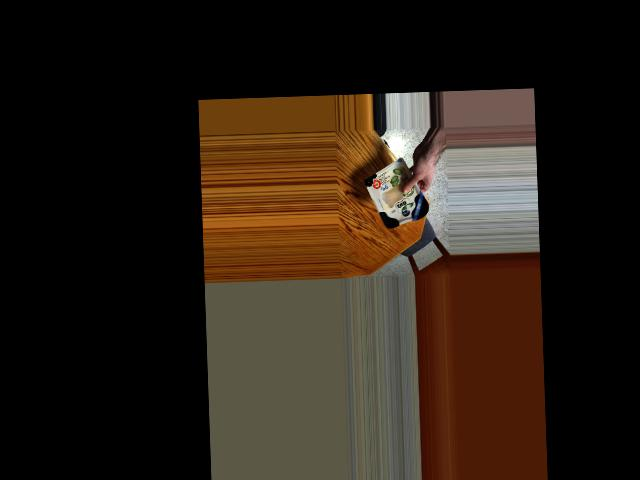cheese: (367, 163, 433, 229)
